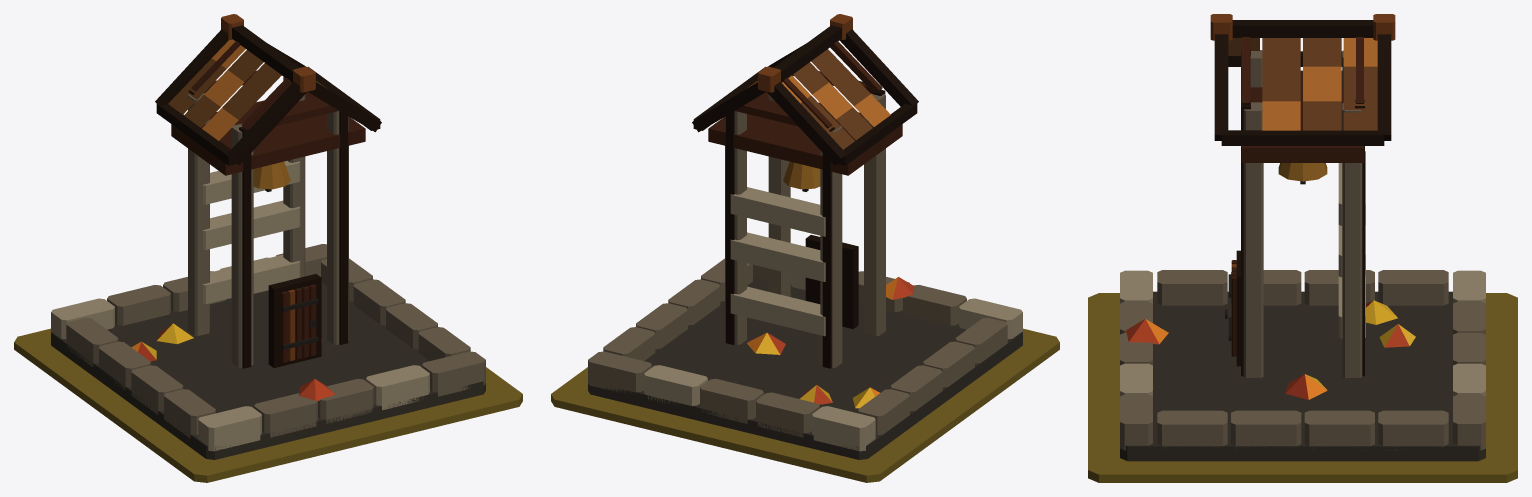
Rendered from bell-tower_t1.glb.
3 views of the same model, side by side, from view 1: azimuth 30°, elevation 25°; view 2: azimuth 150°, elevation 25°; view 3: azimuth 270°, elevation 25° (orthographic). The views are drawn at different scales.
Parts seen in each view (by area): view 1: MMR | bell-tower | T01 Architecture.001, MMR | bell-tower | Tier 01 Ground.001, MMR | bell-tower | T01 Autumn Dressing.001, MMR | bell-tower | T01 Bell.001; view 2: MMR | bell-tower | T01 Architecture.001, MMR | bell-tower | Tier 01 Ground.001, MMR | bell-tower | T01 Autumn Dressing.001, MMR | bell-tower | T01 Bell.001; view 3: MMR | bell-tower | T01 Architecture.001, MMR | bell-tower | Tier 01 Ground.001, MMR | bell-tower | T01 Autumn Dressing.001, MMR | bell-tower | T01 Bell.001.
Part boxes in pixels (x1=…): MMR | bell-tower | T01 Architecture.001: x1=51, y1=14, x2=485, y2=459; MMR | bell-tower | Tier 01 Ground.001: x1=14, y1=328, x2=522, y2=482; MMR | bell-tower | T01 Autumn Dressing.001: x1=131, y1=323, x2=335, y2=400; MMR | bell-tower | T01 Bell.001: x1=253, y1=161, x2=290, y2=189; MMR | bell-tower | T01 Architecture.001: x1=588, y1=14, x2=1022, y2=459; MMR | bell-tower | Tier 01 Ground.001: x1=551, y1=328, x2=1059, y2=482; MMR | bell-tower | T01 Autumn Dressing.001: x1=747, y1=277, x2=914, y2=408; MMR | bell-tower | T01 Bell.001: x1=783, y1=161, x2=820, y2=189; MMR | bell-tower | T01 Architecture.001: x1=1120, y1=14, x2=1485, y2=461; MMR | bell-tower | Tier 01 Ground.001: x1=1088, y1=293, x2=1517, y2=482; MMR | bell-tower | T01 Autumn Dressing.001: x1=1125, y1=300, x2=1415, y2=399; MMR | bell-tower | T01 Bell.001: x1=1278, y1=163, x2=1327, y2=181.
Size of the model in its own units: 2.35 by 2.25 by 2.35.
Materials: 1 (1 with a texture image).
